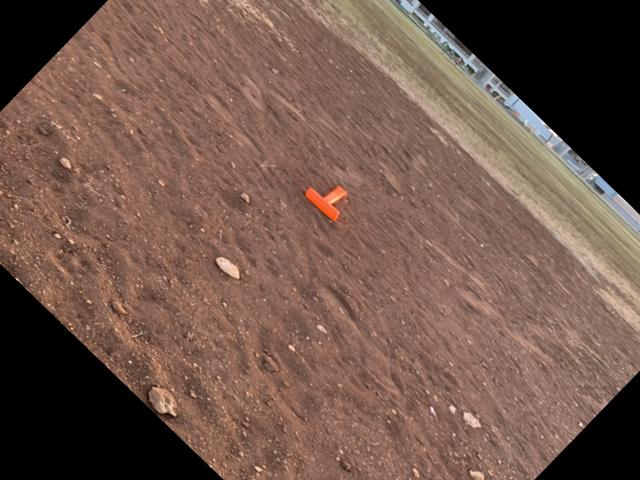hammer: (300, 169, 354, 224)
